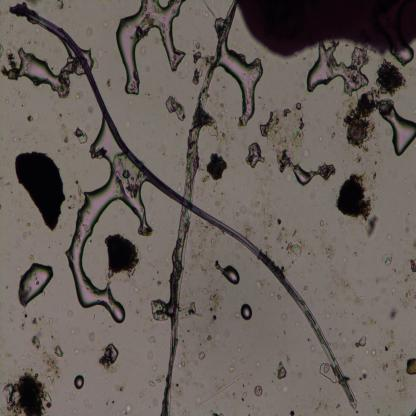Air bubble: (68, 158, 150, 322), (115, 0, 190, 97), (221, 46, 263, 128), (305, 42, 371, 94), (16, 44, 68, 98), (379, 101, 416, 157), (18, 263, 53, 307), (215, 259, 241, 287), (391, 43, 415, 67), (292, 164, 316, 185), (248, 142, 262, 170), (241, 301, 252, 322), (73, 374, 85, 390)
Background material: (11, 148, 67, 234), (261, 100, 309, 171), (338, 170, 379, 238), (239, 188, 283, 242), (3, 369, 52, 415), (342, 94, 378, 156), (186, 215, 221, 273), (324, 264, 367, 309), (198, 370, 250, 406), (103, 228, 140, 278), (373, 322, 400, 386), (30, 335, 64, 377), (375, 60, 409, 95), (176, 336, 195, 398), (0, 42, 23, 82), (316, 218, 336, 262), (275, 232, 306, 260), (310, 391, 342, 416), (200, 285, 223, 319), (137, 380, 159, 414), (206, 150, 227, 184), (201, 184, 228, 210), (18, 311, 53, 330), (100, 338, 119, 372), (149, 296, 171, 325), (179, 300, 205, 324), (353, 153, 387, 171), (247, 170, 290, 184), (165, 94, 186, 122), (191, 321, 214, 346), (6, 124, 32, 146), (1, 2, 15, 40), (58, 111, 70, 153), (202, 112, 220, 140), (319, 361, 337, 386), (10, 79, 26, 107), (388, 266, 414, 282), (316, 160, 334, 183), (66, 182, 83, 206), (233, 336, 247, 364), (399, 288, 416, 311), (401, 373, 414, 403), (122, 181, 140, 202), (106, 378, 127, 396), (213, 100, 230, 122), (253, 272, 269, 295), (60, 320, 78, 340), (189, 38, 202, 64), (334, 335, 356, 350), (401, 354, 416, 376), (72, 128, 90, 146), (197, 166, 210, 190), (268, 283, 285, 301), (356, 362, 371, 382), (404, 253, 416, 278), (358, 310, 376, 326), (257, 234, 273, 252), (336, 303, 352, 321), (172, 398, 188, 416), (173, 145, 182, 176), (21, 218, 34, 239), (278, 349, 294, 366), (302, 332, 316, 351), (276, 363, 288, 383), (404, 214, 414, 238), (79, 112, 92, 130), (356, 336, 370, 352), (191, 68, 203, 86), (148, 258, 160, 276), (6, 245, 16, 266), (80, 21, 94, 36), (51, 0, 67, 13), (28, 247, 40, 264), (326, 124, 338, 141), (214, 330, 226, 347), (132, 280, 146, 294), (292, 77, 306, 91), (147, 375, 161, 389), (379, 254, 394, 267), (86, 250, 98, 265), (387, 306, 399, 321), (229, 356, 240, 372), (86, 328, 97, 344), (8, 302, 17, 320), (27, 110, 40, 122), (276, 383, 291, 393), (123, 116, 133, 131), (137, 43, 147, 58), (167, 225, 177, 240), (122, 403, 134, 415), (140, 63, 153, 74), (1, 348, 11, 362), (82, 395, 92, 409), (254, 384, 263, 399), (373, 401, 382, 416), (93, 46, 104, 58), (135, 307, 145, 320), (197, 350, 207, 363), (71, 343, 80, 357), (279, 311, 288, 325), (303, 145, 312, 159), (157, 278, 167, 290), (147, 352, 157, 364), (104, 77, 112, 92), (388, 286, 398, 297), (146, 334, 156, 345), (386, 228, 393, 243), (345, 353, 356, 362), (104, 401, 117, 408), (54, 251, 63, 261), (152, 32, 160, 43), (126, 298, 135, 307), (4, 178, 12, 188), (76, 86, 82, 99), (58, 220, 65, 231), (6, 94, 13, 104), (288, 409, 298, 416), (316, 115, 323, 125), (67, 308, 73, 319), (150, 368, 158, 376), (324, 312, 332, 320), (302, 284, 310, 292), (254, 362, 263, 369), (31, 0, 41, 6), (411, 238, 416, 250), (374, 294, 380, 304), (213, 410, 223, 416), (102, 20, 108, 29), (88, 105, 94, 113), (410, 406, 416, 414), (204, 9, 209, 17), (371, 349, 376, 357), (179, 34, 184, 41), (148, 247, 152, 253)
Cellulose filter fibre: (161, 2, 237, 414)
Microfibre: (13, 2, 360, 411)
Pen: (236, 0, 416, 56)
